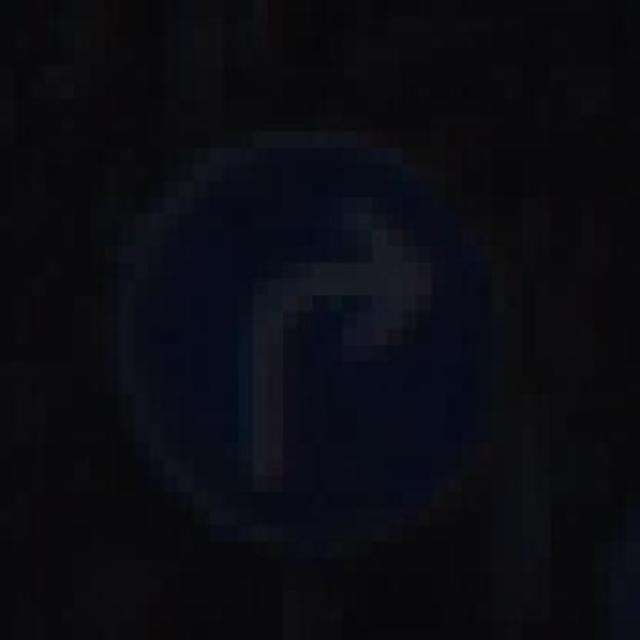Turn right ahead: (90, 115, 536, 558)
